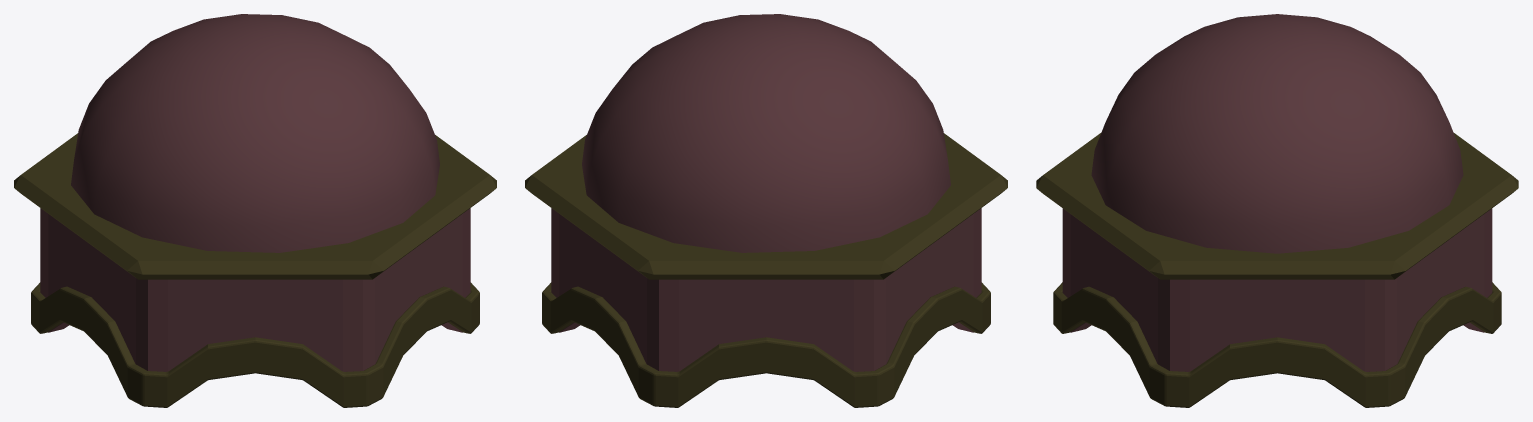
File: Temple.fbx
3 views of the same model, side by side, from view 1: azimuth 30°, elevation 25°; view 2: azimuth 150°, elevation 25°; view 3: azimuth 270°, elevation 25° (orthographic).
Visible parts, largest first — view 1: Sphere, Circle, Circle.002, Circle.001; view 2: Sphere, Circle, Circle.002, Circle.001; view 3: Sphere, Circle, Circle.002, Circle.001.
Boxes of the visible parts, x1,y1,x2,y2 form: Sphere: (71,14,439,252); Circle: (40,208,470,371); Circle.002: (14,133,496,279); Circle.001: (31,282,479,407); Sphere: (582,14,950,252); Circle: (551,208,981,371); Circle.002: (525,133,1007,279); Circle.001: (542,282,990,407); Sphere: (1091,14,1463,253); Circle: (1062,208,1492,371); Circle.002: (1036,133,1518,279); Circle.001: (1053,282,1501,407).
Bounding box in the file's own units: 216 × 163 × 245.
